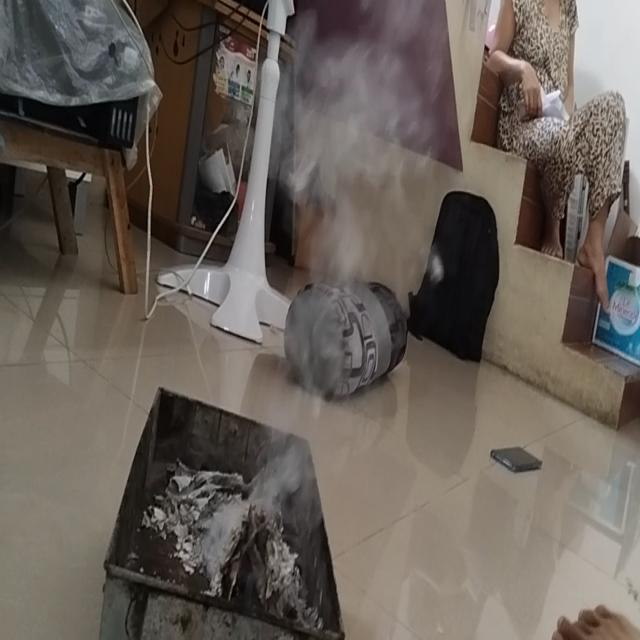fire: (286, 0, 424, 276), (254, 406, 315, 512)
